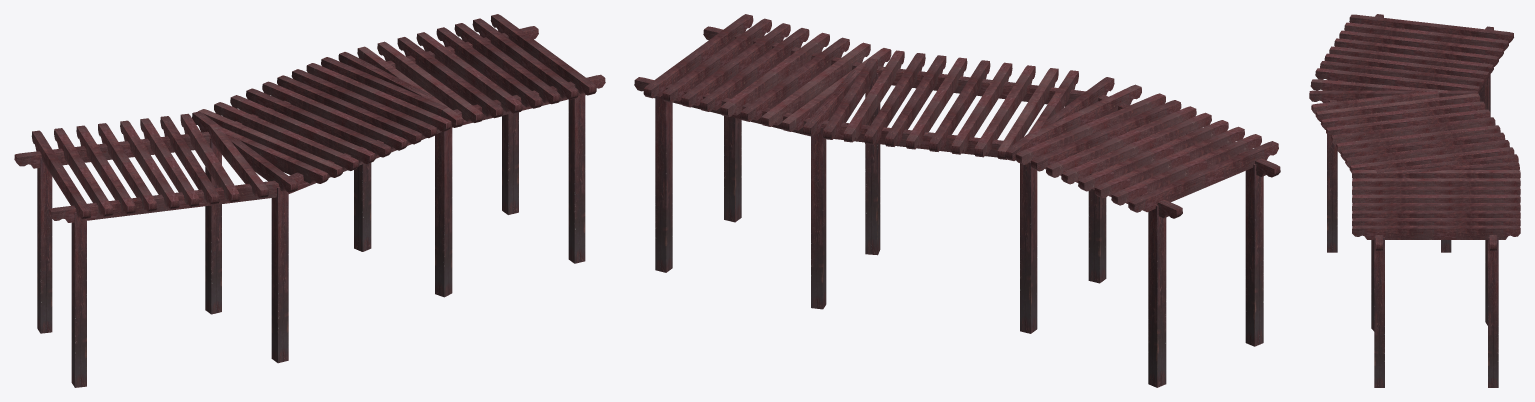
File: Building_ShedWood.FBX
3 views of the same model, side by side, from view 1: azimuth 30°, elevation 25°; view 2: azimuth 150°, elevation 25°; view 3: azimuth 270°, elevation 25° (orthographic). The views are drawn at different scales.
Parts seen in each view (by area): view 1: Building_ShedWood; view 2: Building_ShedWood; view 3: Building_ShedWood.
Part boxes in pixels (bbox=[...]): Building_ShedWood: bbox=[14, 14, 605, 387]; Building_ShedWood: bbox=[634, 14, 1280, 387]; Building_ShedWood: bbox=[1309, 14, 1520, 387].
Size of the model in its own units: 997 by 386 by 319.
